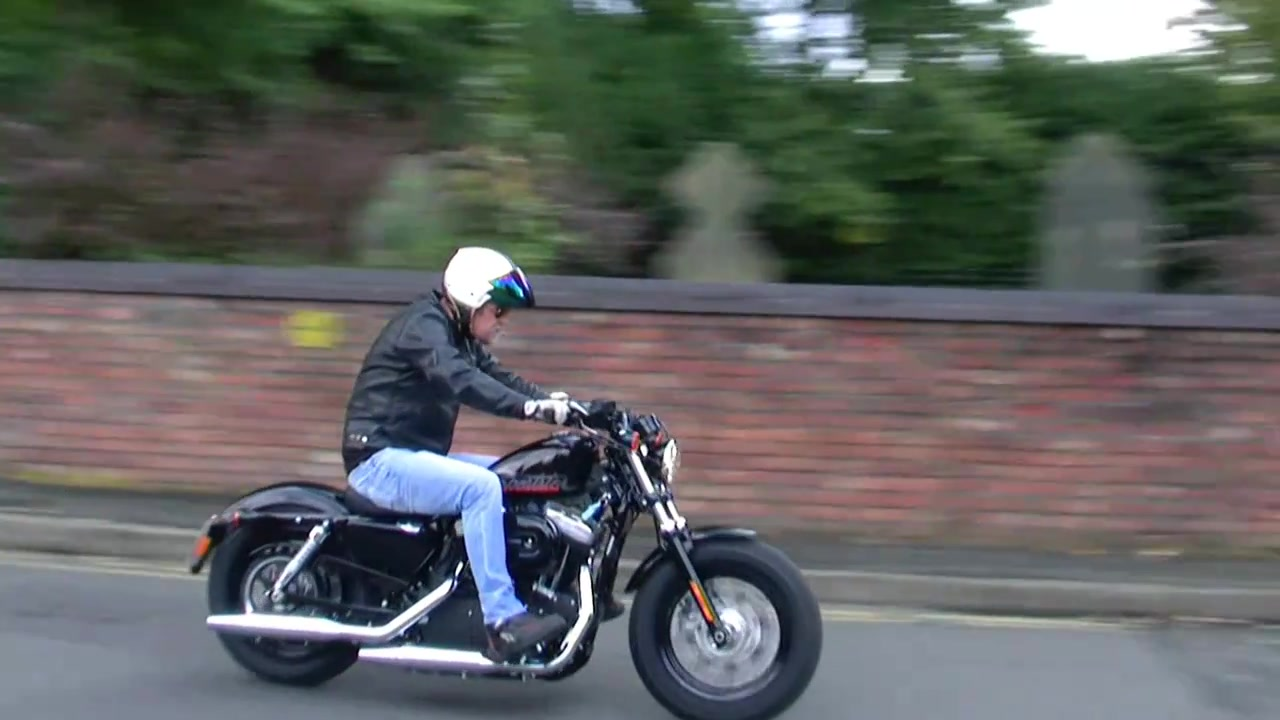motorbike: (192, 397, 836, 720)
